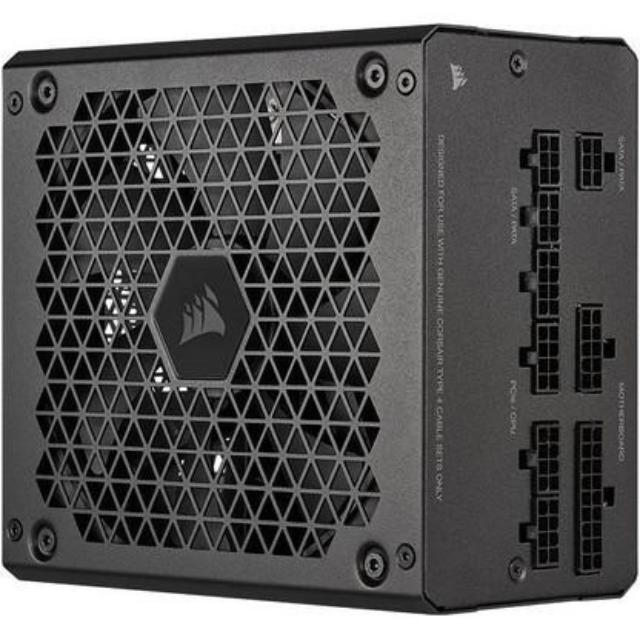PSU: (0, 13, 640, 624)
